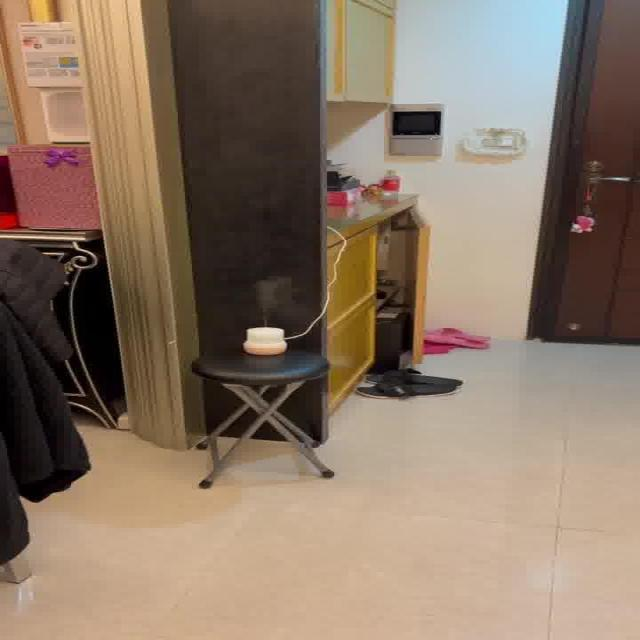fire: (250, 273, 300, 320)
